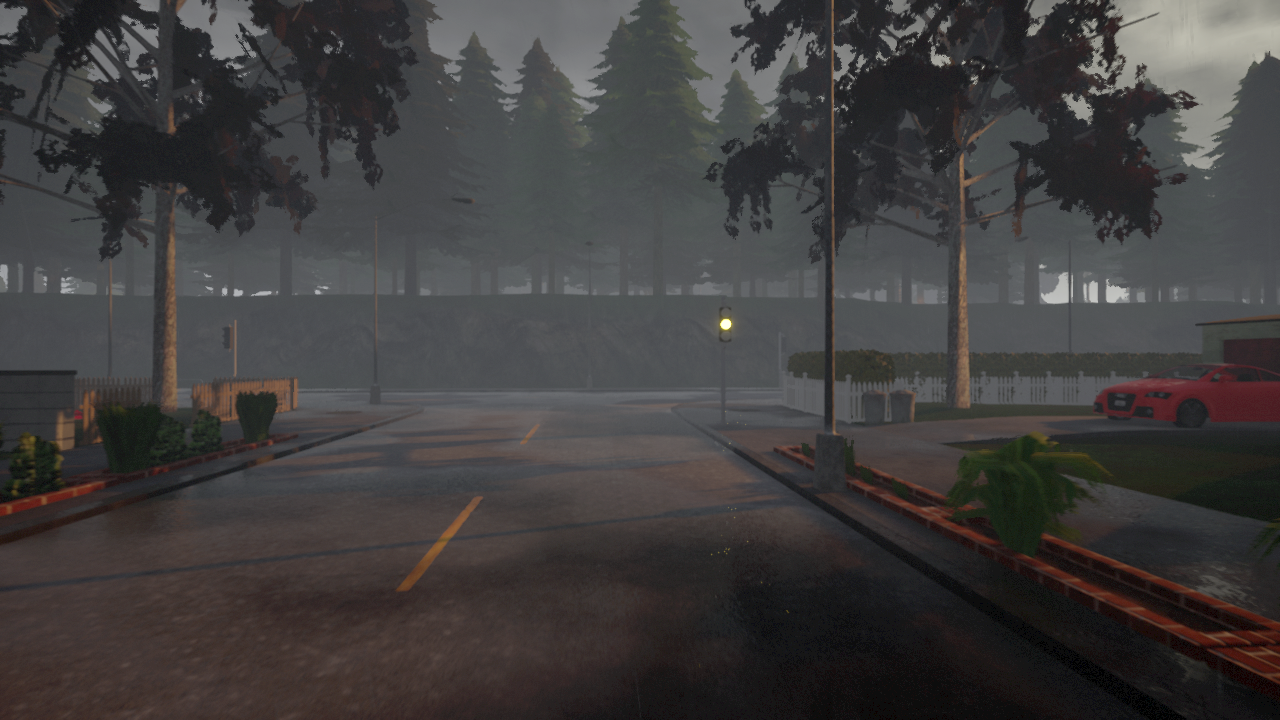yellow: (718, 305, 732, 342)
